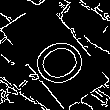O_NE: (18, 22, 92, 88)
